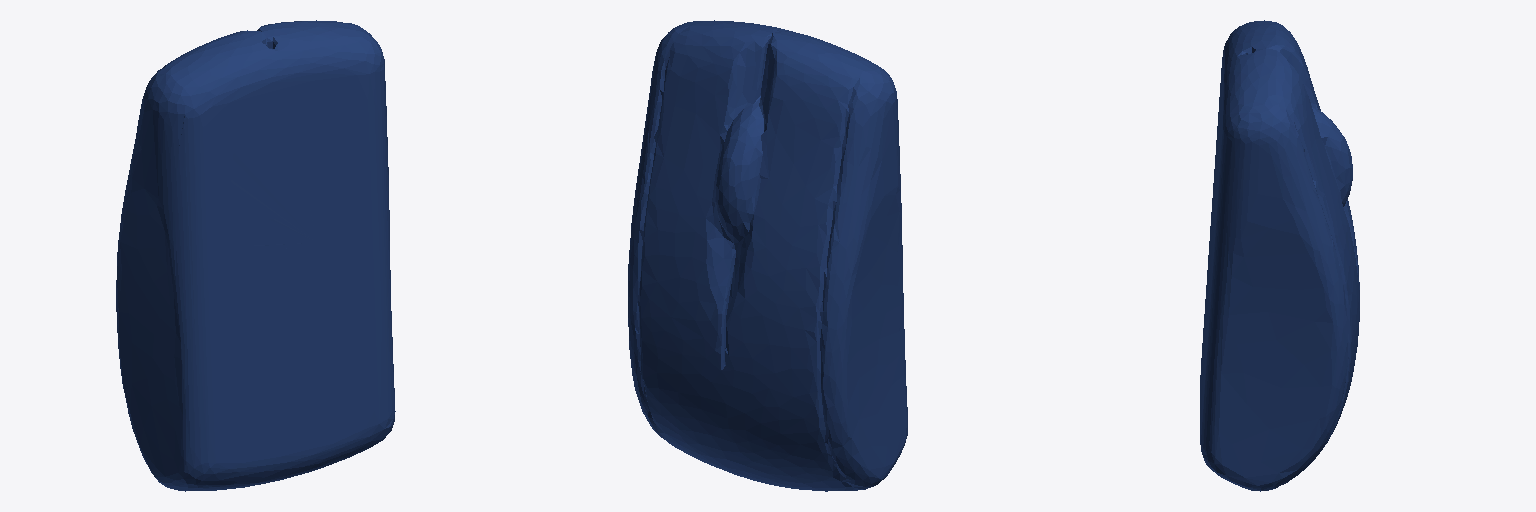
robot.urdf — design:
<?xml version="1.0"?>
<robot name="design">
  <material name="obj_color">
      <color rgba="0.2 0.3 0.5 1.0"/>
  </material>
  <link name="base">
    <visual>
      <origin xyz="0.0 0.0 0.0"/>
      <geometry>
        <mesh filename="mouse.obj" scale="1 1 1"/>
      </geometry>
      <material name="obj_color"/>
    </visual>
    <collision>
      <origin xyz="0.0 0.0 0.0"/>
      <geometry>
        <mesh filename="mouse.obj" scale="1 1 1"/>
      </geometry>
    </collision>
  </link>
</robot>

--- Facts derived from the render (not from the file) ---
Views: 3 orthographic renders of the robot side by side, from view 1: azimuth 30°, elevation 25°; view 2: azimuth 150°, elevation 25°; view 3: azimuth 270°, elevation 25°.
Robot: design — 1 links, 0 joints (none); root link base; default pose: all joints at 0.
Visible links, largest first — view 1: base; view 2: base; view 3: base.
Link boxes in pixels (<box>): base: <box>116,20,395,491</box>; base: <box>628,20,907,491</box>; base: <box>1200,20,1359,491</box>.
Size in the robot's own frame: 0.0626 by 0.0409 by 0.117 metres.
Meshes: 1 distinct files referenced, 1 mesh visuals loaded (1 OBJ).
